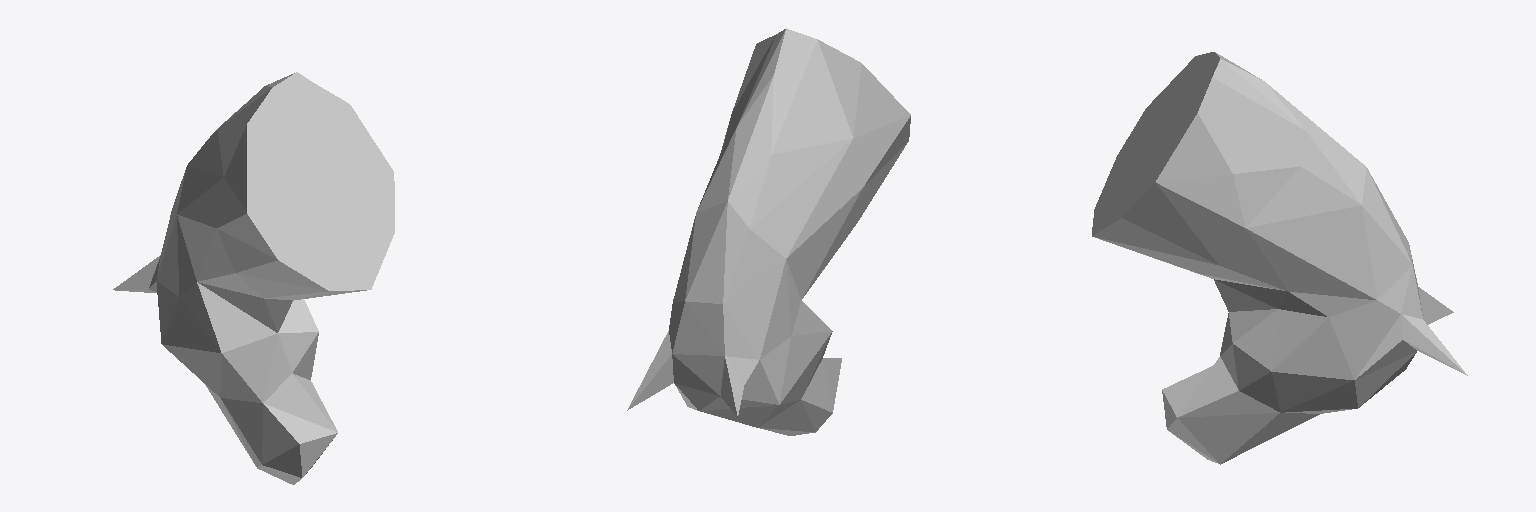
File: teteCheval.obj
3 views of the same model, side by side, from view 1: azimuth 30°, elevation 25°; view 2: azimuth 150°, elevation 25°; view 3: azimuth 270°, elevation 25° (orthographic).
Visible parts, largest first — view 1: Tete; view 2: Tete; view 3: Tete.
Boxes of the visible parts, box(x1,y1,x2,y2) form: Tete: box(113, 72, 394, 484); Tete: box(627, 28, 910, 435); Tete: box(1092, 52, 1467, 464).
Bounding box in the file's own units: 11.04 × 28.17 × 23.71.